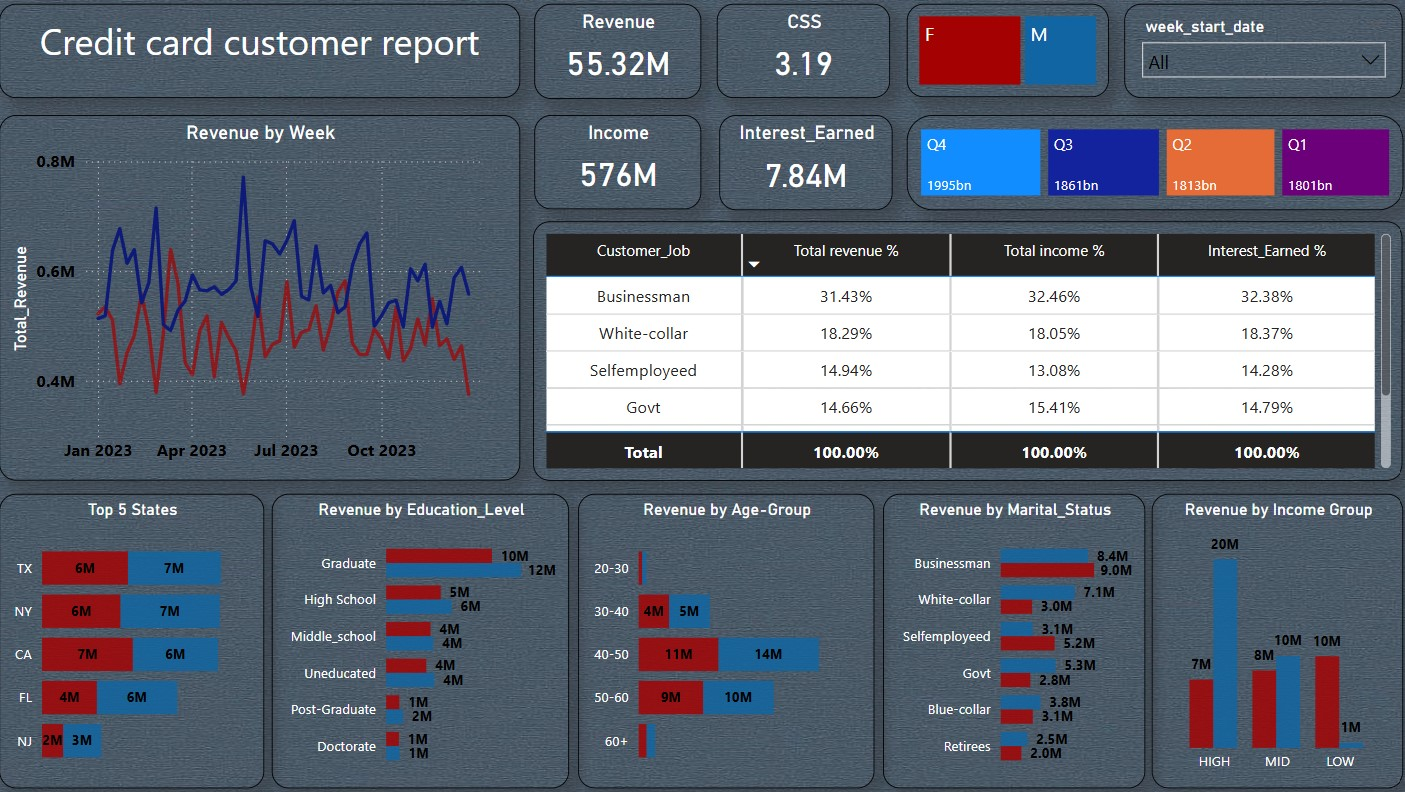

The page's visual inventory and layout, read from the dashboard file:
{"tool":"powerbi","page":{"name":"CC_customer","canvas":[1280,720],"ordinal":1},"visuals":[{"type":"textbox","box":[14,12.8,464,84],"z":0},{"type":"clusteredColumnChart","title":"Revenue by Income Group","fields":{"Category":["Public card&cust_detail.INCOME_GROUP"],"Y":["Sum(Public card&cust_detail.Revenue)"],"Series":["Public card&cust_detail.Gender"]},"box":[1040.7,448.8,224.4,262.8],"z":1000},{"type":"tableEx","fields":{"Values":["Public card&cust_detail.Customer_Job","Sum(Public card&cust_detail.Revenue)","Sum(Public card&cust_detail.Income)","Sum(Public card&cust_detail.Interest_Earned)"]},"box":[489.5,205.8,775.6,231.4],"z":2000},{"type":"card","title":"Revenue","fields":{"Values":["Sum(Public card&cust_detail.Revenue)"]},"box":[490.7,12.8,148.8,84.9],"z":3000},{"type":"slicer","fields":{"Values":["Public card&cust_detail.Week_Start_Date.Variation.Date Hierarchy.Month","Public card&cust_detail.Week_Start_Date.Variation.Date Hierarchy.Day"]},"box":[1016.3,12.8,248.8,83.7],"z":4000},{"type":"card","title":"Interest_Earned","fields":{"Values":["Sum(Public card&cust_detail.Interest_Earned)"]},"box":[655.8,111.6,154.7,84.9],"z":5000},{"type":"card","title":"Income","fields":{"Values":["Sum(Public card&cust_detail.Income)"]},"box":[490.7,111.6,148.8,83.7],"z":6000},{"type":"card","title":"CSS","fields":{"Values":["Avg(Public card&cust_detail.Cust_Satisfaction_Score)"]},"box":[653.5,12.8,154.7,83.7],"z":7000},{"type":"treemap","title":"Gender","fields":{"Group":["Public card&cust_detail.Gender","Public card&cust_detail.Qtr"],"Values":["Sum(Public card&cust_detail.Client_Num)"]},"box":[822.6,12.2,180.3,83.5],"z":8000},{"type":"treemap","fields":{"Group":["Public card&cust_detail.Qtr"],"Values":["Sum(Public card&cust_detail.Client_Num)"]},"box":[822.1,111.6,443,84.9],"z":9000},{"type":"lineChart","title":"Revenue by Week","fields":{"Y":["Sum(Public card&cust_detail.Revenue)"],"Series":["Public card&cust_detail.Gender"],"Category":["Public card&cust_detail.Week_Start_Date"]},"box":[14,111.6,464,325.6],"z":11000},{"type":"barChart","title":"Revenue by Age-Group","fields":{"Y":["Sum(Public card&cust_detail.Revenue)"],"Category":["Public card&cust_detail.CX_AGE_GROUP"],"Series":["Public card&cust_detail.Gender"]},"box":[530.2,448.8,264,262.8],"z":12000},{"type":"barChart","title":"Top 5 States","fields":{"Y":["Sum(Public card&cust_detail.Revenue)"],"Category":["Public card&cust_detail.state_cd"],"Series":["Public card&cust_detail.Gender"]},"box":[14,448.8,236,262.8],"z":13000},{"type":"clusteredBarChart","title":"Revenue by Education_Level","fields":{"Category":["Public card&cust_detail.Education_Level"],"Y":["Sum(Public card&cust_detail.Revenue)"],"Series":["Public card&cust_detail.Gender"]},"box":[257,448.8,265.1,262.8],"z":14000},{"type":"clusteredBarChart","title":"Revenue by Marital_Status","fields":{"Category":["Public card&cust_detail.Customer_Job","Public card&cust_detail.Marital_Status"],"Y":["Sum(Public card&cust_detail.Revenue)"],"Series":["Public card&cust_detail.Gender"]},"box":[801.2,448.8,233.7,262.8],"z":15000}]}

Visuals, with their boxes in screenshot pixels (x1, y1, x2, y2), scaled from the page's 1280x720 canvas onto the 1405x792 screenshot:
textbox: (15,14,525,106)
"Revenue by Income Group" clusteredColumnChart: (1142,494,1389,783)
tableEx - Public card&cust_detail.Customer_Job x Sum(Public card&cust_detail.Revenue): (537,226,1389,481)
"Revenue" card: (539,14,702,107)
slicer - Public card&cust_detail.Week_Start_Date.Variation.Date Hierarchy.Month x Public card&cust_detail.Week_Start_Date.Variation.Date Hierarchy.Day: (1116,14,1389,106)
"Interest_Earned" card: (720,123,890,216)
"Income" card: (539,123,702,215)
"CSS" card: (717,14,887,106)
"Gender" treemap: (903,13,1101,105)
treemap - Public card&cust_detail.Qtr x Sum(Public card&cust_detail.Client_Num): (902,123,1389,216)
"Revenue by Week" lineChart: (15,123,525,481)
"Revenue by Age-Group" barChart: (582,494,872,783)
"Top 5 States" barChart: (15,494,274,783)
"Revenue by Education_Level" clusteredBarChart: (282,494,573,783)
"Revenue by Marital_Status" clusteredBarChart: (879,494,1136,783)
